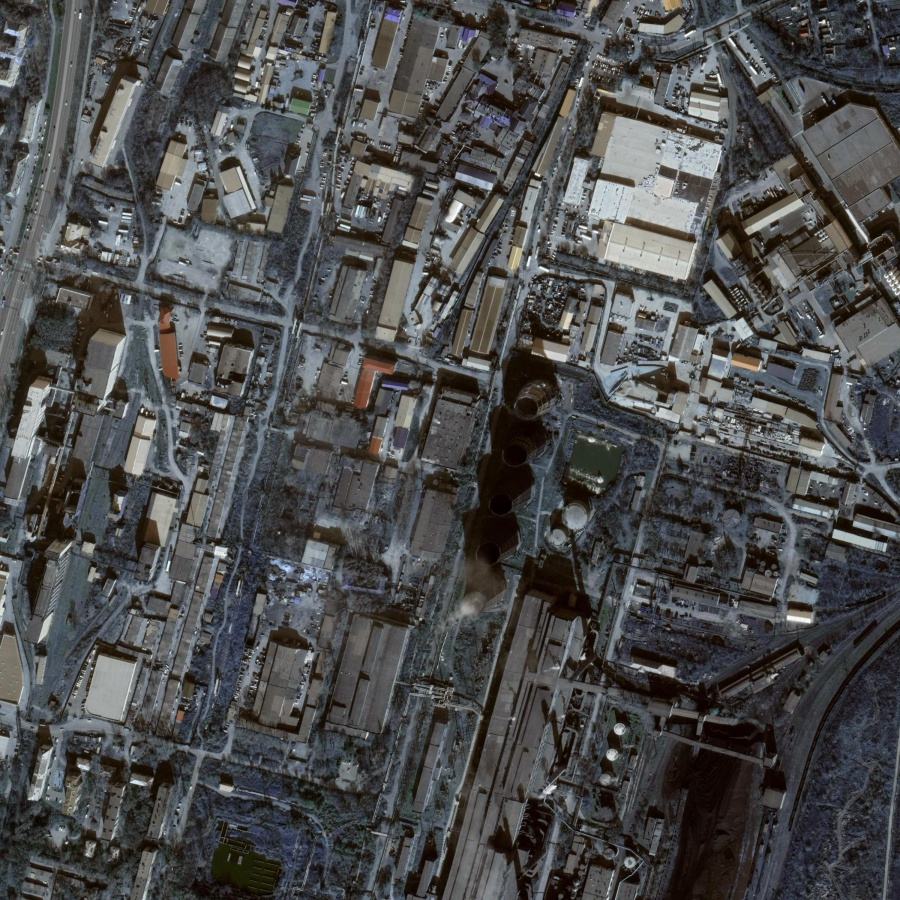PowerPlant: (430, 331, 600, 670)
